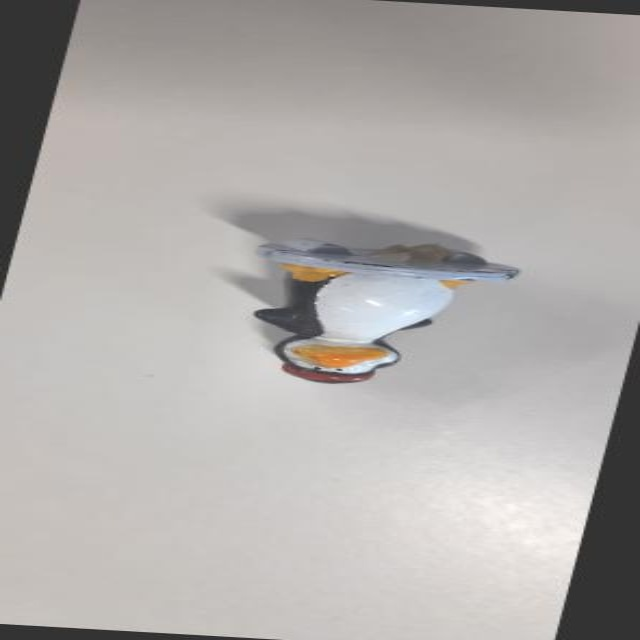Penguin: (222, 235, 517, 399)
